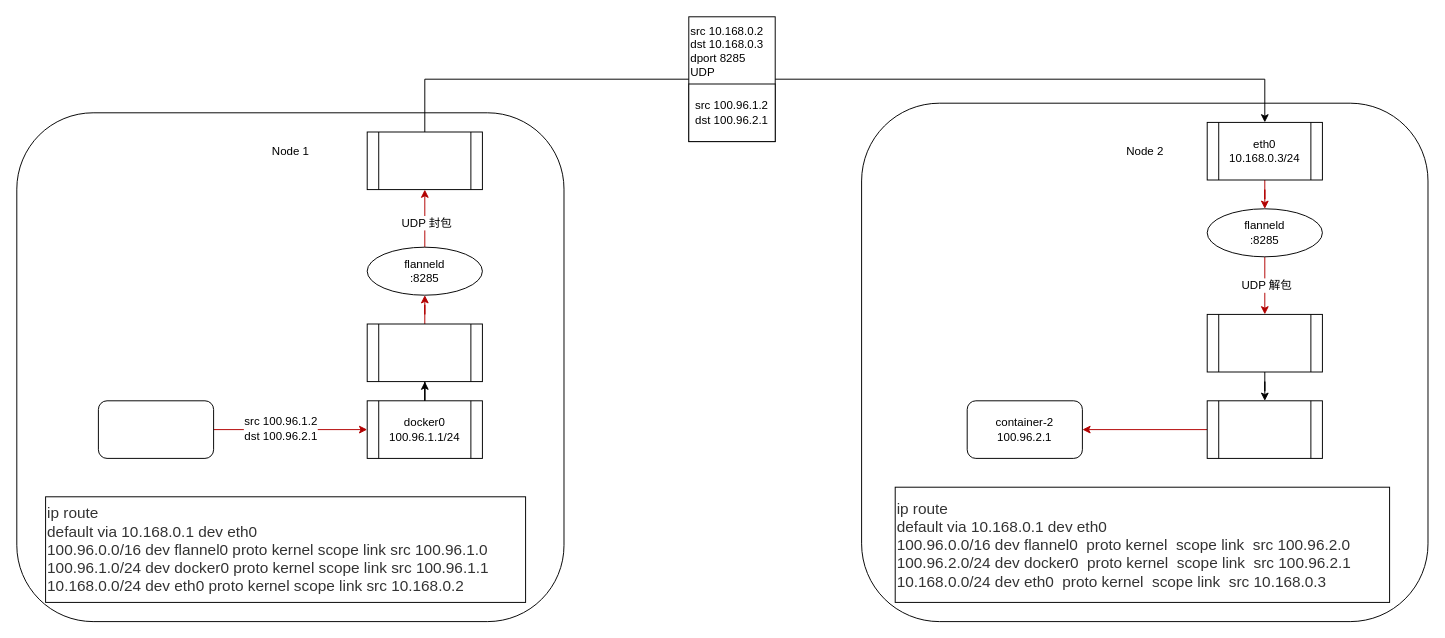
Some shapes in this 1445 by 638 pixel diagram are drawn without their labels. Here are the shapes that lost their labels. From the top down, the centre of each, then its label:
At pixel 424 160: "eth0 10.168.0.2/24".
At pixel 424 352: "flannel0 100.96.1.0/16".
At pixel 1264 342: "flannel0 100.96.2.0/16".
At pixel 155 429: "container-1 100.96.1.2".
At pixel 1264 429: "docker0 100.96.2.1/24".
